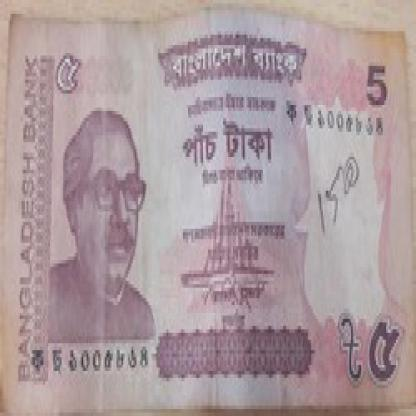Five Taka: (173, 114, 286, 170), (368, 309, 401, 388), (51, 38, 81, 111), (358, 48, 389, 114)
